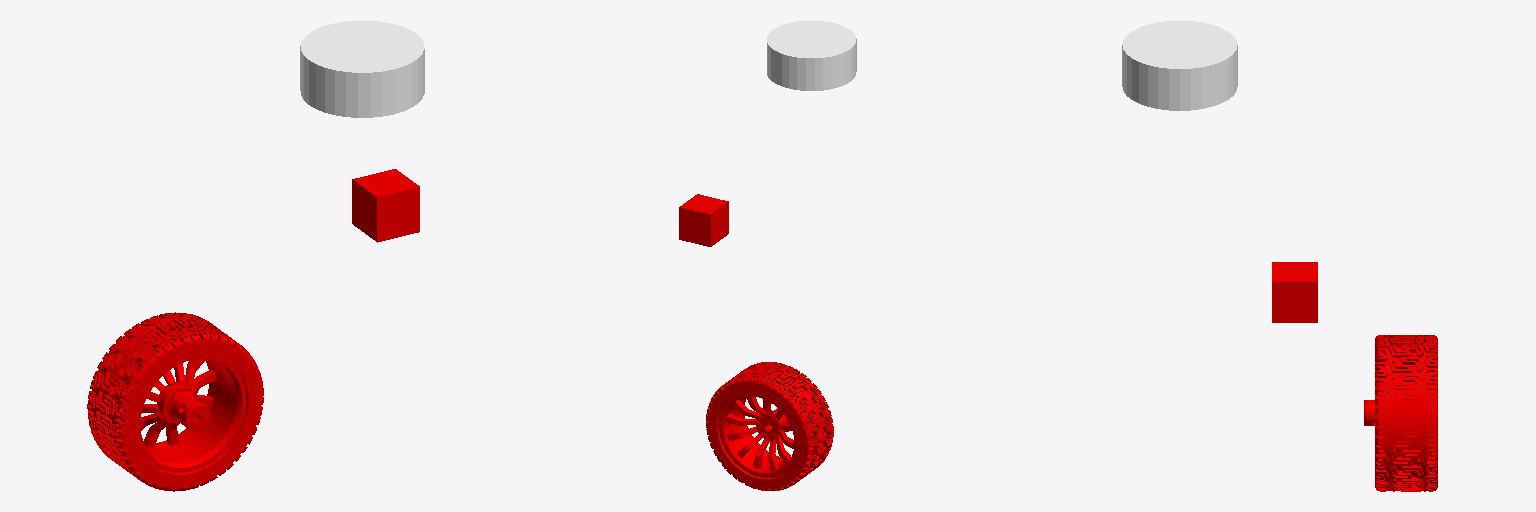
robot.urdf — simple_robot:
<?xml version="1.0"?>
<robot name="simple_robot">

    <!-- Colors for the robot -->
    <material name="red">
        <color rgba="1.0 0.0 0.0 1.0"/>
    </material>
    <material name="grey">
        <color rgba="0.5 0.5 0.5 1.0"/>
    </material>
    <material name="white">
        <color rgba="1.0 1.0 1.0 0.80"/>
    </material>



    <!-- base_link = global frame -->
    <link name="base_link">
    </link>



    <!-- *************** Chassis *************** -->
    <link name="chassis">
        <visual>
            <!-- Orientation -->
            <origin xyz="0 0 0" rpy="1.570796 0 0"/> 
            <geometry>
                <!-- STL file for visualization -->
                 <mesh filename="package://robot_description/meshes/chassisWithMotor.STL" scale="0.001 0.001 0.001"/>
            </geometry>
            <material name="grey"/>                                              
        </visual>
        <collision>
            <geometry>
                <!-- STL file for colission -->
                <mesh filename="package://robot_description/meshes/chassisWithMotor.STL" scale="0.001 0.001 0.001"/>
            </geometry>
        </collision>  
    </link> 
    <!-- Base link to chassis joint definition -->
    <joint name="base_to_chassis_joint" type="fixed">
        <parent link="base_link"/>
        <child link="chassis"/>
        <origin xyz="0 0 0.017" rpy="0 0 0"/>
    </joint>



    <!-- ************************ Right Wheel ******************  -->
    <link name="right_wheel">
        <visual>
            <!-- the origin here defines the xyz and rpy positon of the coordinate system of right wheel-->
            <origin xyz="0 0 0" rpy="0 0 0"/> 
            <geometry>
                 <mesh filename="package://robot_description/meshes/Wheel.STL" scale="0.001 0.001 0.001"/>
            </geometry>
            <material name="red"/>                                             
        </visual>
        <collision>
            <geometry>
                <mesh filename="package://robot_description/meshes/Wheel.STL" scale="0.001 0.001 0.001"/>
            </geometry>
        </collision>  
    </link> 
    <!-- Right wheel and its joint definition -->
    <joint name="chassis_right_Wheel_joint" type="continuous">
        <parent link="base_link"/>
        <child link="right_wheel"/>
        <origin xyz="0 -0.08 0.01675" rpy="1.570796 0 0"/>
        <axis xyz="0 0 1"/>
    </joint>



    <!-- *********************** Here comes the left wheel ******************** -->
    <link name="left_wheel">
        <visual>
            <!-- the origin here defines the xyz and rpy positon of the coordinate system of left wheel-->
            <origin xyz="0 0 0" rpy="0 0 0"/> 
            <geometry>
                 <mesh filename="package://robot_description/meshes/leftWheel.STL" scale="1 1 1"/>
            </geometry>
            <material name="red"/>                                             
        </visual>
        <collision>
            <geometry>
                <mesh filename="package://robot_description/meshes/leftWheel.STL" scale="1 1 1"/>
            </geometry>
        </collision>  
    </link> 
    <!-- Left wheel and its joint definition -->
        <joint name="chassis_left_Wheel_joint" type="continuous">
        <parent link="base_link"/>
        <child link="left_wheel"/>
        <origin xyz="0 0.080 0.01675" rpy="-1.570796 0 0"/>
        <axis xyz="0 0 1"/>
    </joint>



    <!-- ******************** LiDAR ********************** -->
    <link name="laser">
        <visual>
            <geometry>
                <!-- Laser as a cylinder -->
                <cylinder length="0.02" radius="0.025"/>
            </geometry>
            <material name="white"/>
        </visual>
        <collision>
            <geometry>
                <!-- here the laser is made just as a cylinder -->
                <cylinder length="0.04" radius="0.025"/>
            </geometry>
        </collision>
    </link>
    <!-- Lidar and its joint definition -->
    <joint name="laser_joint" type="fixed">
        <parent link="chassis"/>
        <child link="laser"/>
        <origin xyz="0.03 0 0.18" rpy="0 0 0" />    
    </joint>



    <!-- ********************* IMU ********************* -->
    <link name="bno055">
    <visual>
        <geometry>
            <!-- bno055 -->
            <box size="0.02 0.02 0.02"/>
        </geometry>
        <material name="red"/>
    </visual>
        <collision>
            <geometry>
                <!-- collision box-->
                <box size="0.02 0.02 0.02"/>
            </geometry>
        </collision>
    </link>
    <!-- IMU and its joint definition -->
    <joint name="bno055_joint" type="fixed">
        <parent link="chassis"/>
        <child link="bno055"/>
        <origin xyz="0.07 0.05 0.09" rpy="0 0 1.570796" />
    </joint>



</robot>

--- Render facts (derived) ---
3 views of the same robot in one strip: view 1: azimuth 30°, elevation 25°; view 2: azimuth 150°, elevation 25°; view 3: azimuth 270°, elevation 25° (orthographic).
Robot: simple_robot — 6 links, 5 joints (2 continuous, 3 fixed); root link base_link; default pose: every joint at zero.
Links seen in each view (by area): view 1: left_wheel, laser, bno055; view 2: left_wheel, laser, bno055; view 3: left_wheel, laser, bno055.
Boxes of the visible links, <box> form: left_wheel: <box>87,312,263,491</box>; laser: <box>300,20,424,117</box>; bno055: <box>352,169,419,242</box>; left_wheel: <box>706,362,833,490</box>; laser: <box>767,20,856,90</box>; bno055: <box>679,194,728,246</box>; left_wheel: <box>1364,335,1437,491</box>; laser: <box>1122,21,1237,110</box>; bno055: <box>1272,262,1317,322</box>.
Bounding box of the posed robot: 0.114 × 0.1368 × 0.2242 m (x, y, z).
1 mesh visuals loaded from 3 distinct referenced files (1 binary STL); not drawn: 2 (reference not matched to a file when rendering).